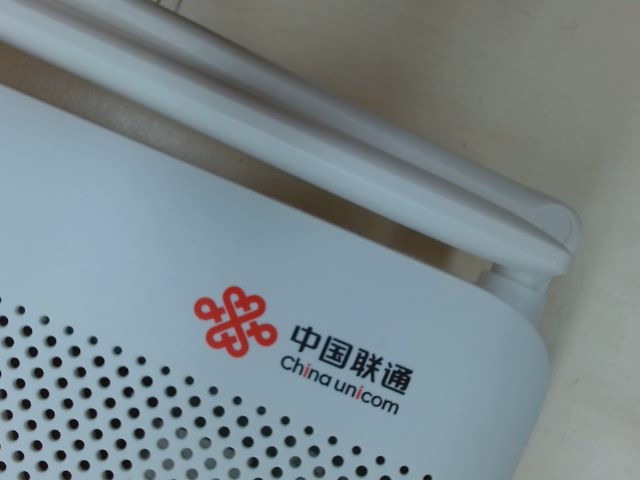ChinaUnicom2: (160, 261, 424, 426)
